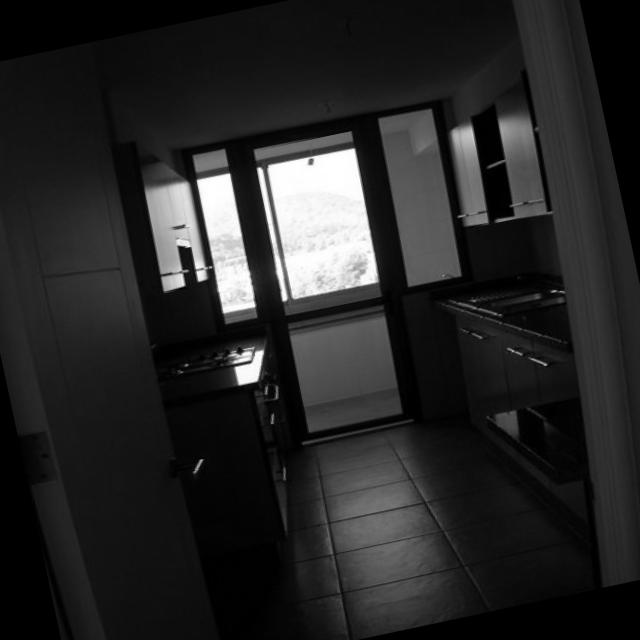2001: (258, 145, 381, 318)
cupboards: (449, 314, 589, 531), (441, 74, 547, 227), (110, 140, 210, 296)
door bars: (0, 45, 215, 640)
doorframe: (509, 0, 640, 585)
floor -X: (185, 401, 600, 640), (303, 387, 412, 441)
pane: (192, 149, 257, 324)
sink basin: (470, 286, 567, 316)
stove burner: (161, 340, 254, 377)
wall clock: (95, 0, 505, 466), (440, 0, 598, 496), (291, 302, 402, 407)
